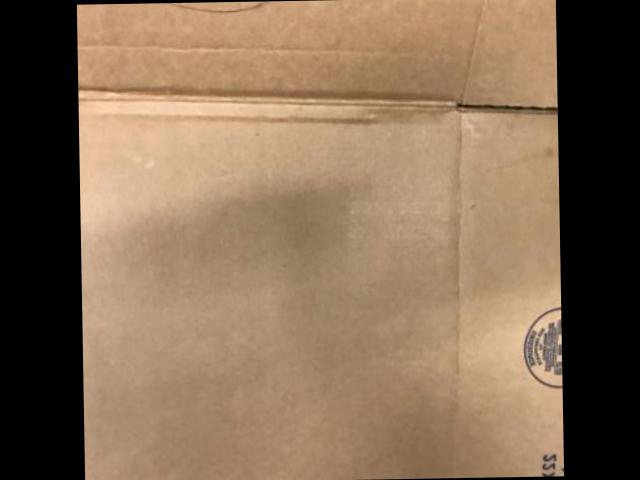cardboard paper: (76, 0, 564, 480)
